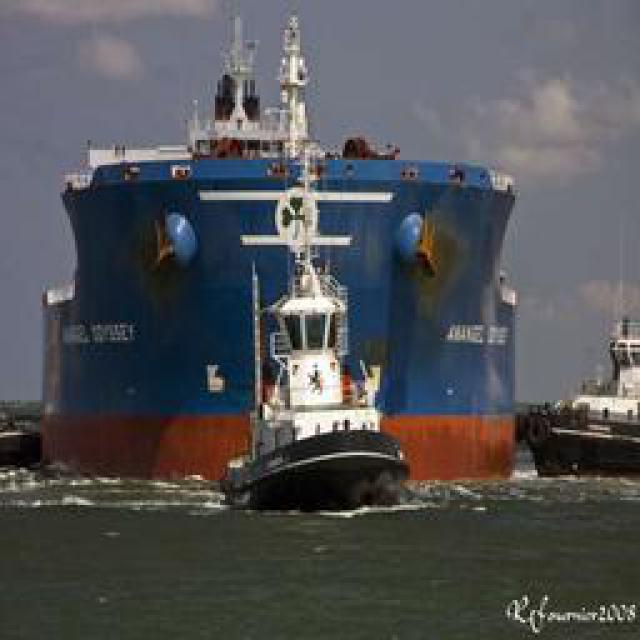Ship: (33, 100, 521, 498)
